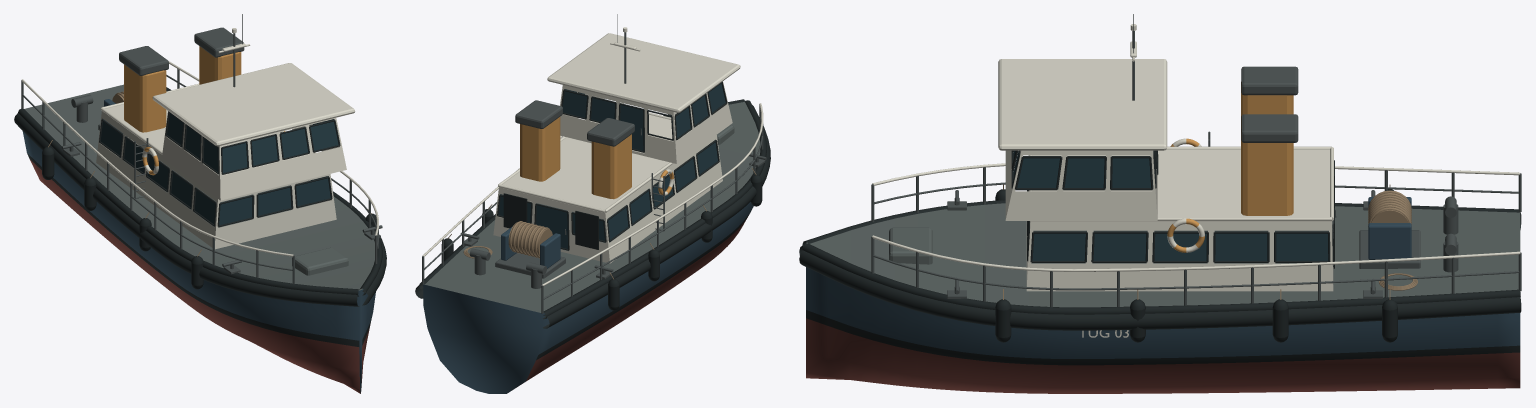
File: tugboat.glb
3 views of the same model, side by side, from view 1: azimuth 30°, elevation 25°; view 2: azimuth 150°, elevation 25°; view 3: azimuth 270°, elevation 25° (orthographic). The views are drawn at different scales.
Parts seen in each view (by area): view 1: SM_tugboat; view 2: SM_tugboat; view 3: SM_tugboat.
Boxes of the visible parts, <box> form: SM_tugboat: <box>14,14,386,393</box>; SM_tugboat: <box>415,14,770,393</box>; SM_tugboat: <box>799,14,1521,393</box>.
Bounding box in the file's own units: 6.69 × 9.7 × 17.2.
